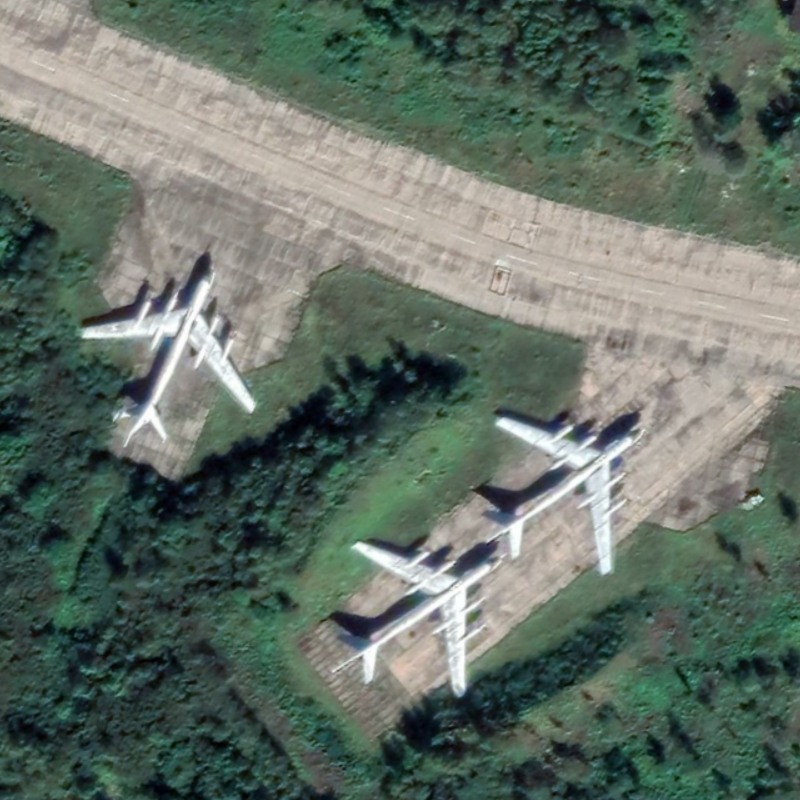A17: (75, 263, 263, 453), (477, 406, 650, 582), (325, 536, 507, 701)
